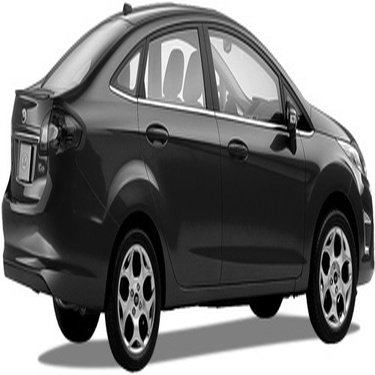car: (1, 3, 373, 371)
